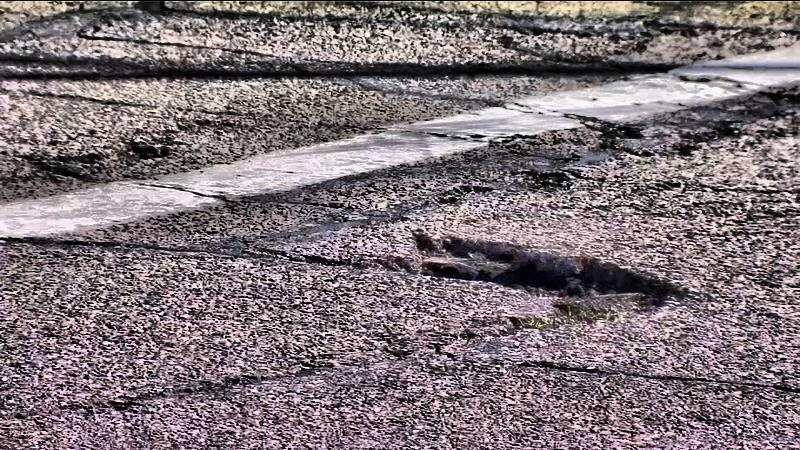pothole: (403, 229, 681, 311)
